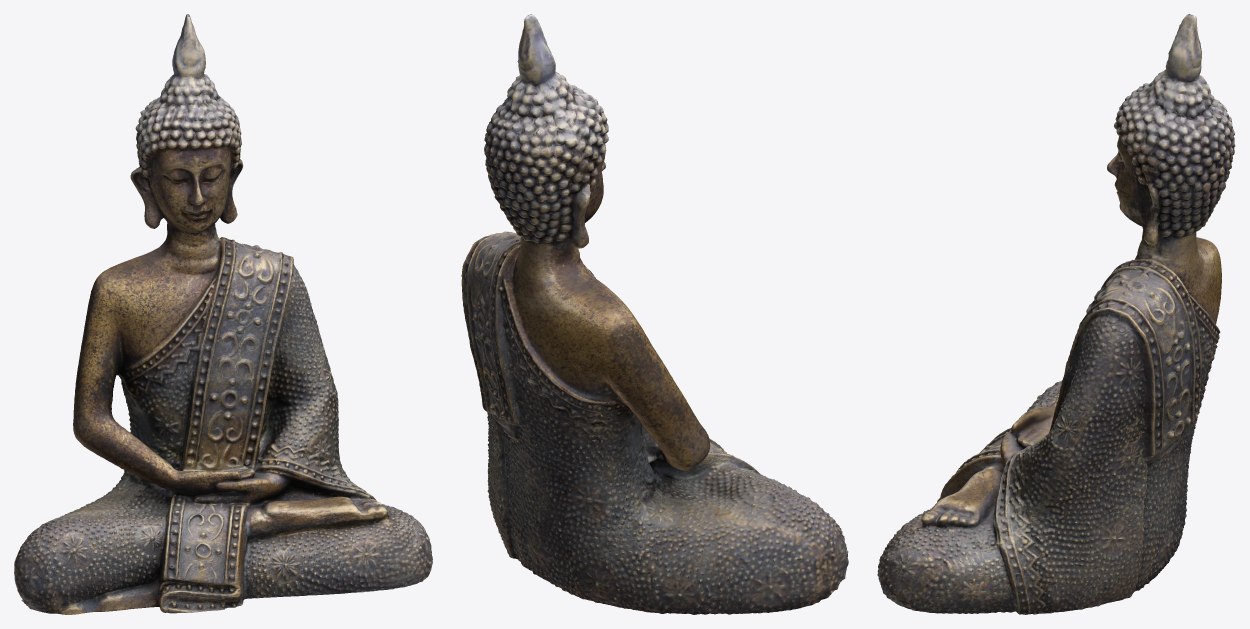
Rendered from about-hero-opt.glb.
3 renders of one model, left to right at view 1: azimuth 30°, elevation 25°; view 2: azimuth 150°, elevation 25°; view 3: azimuth 270°, elevation 25°, orthographic. The views are drawn at different scales.
Visible parts, largest first — view 1: Object_2; view 2: Object_2; view 3: Object_2.
Boxes of the visible parts, x1,y1,x2,y2 form: Object_2: (14, 14, 432, 614); Object_2: (461, 14, 848, 614); Object_2: (877, 14, 1235, 614).
Bounding box in the file's own units: 70.84 × 101 × 58.36.
1 material, 1 textured.
